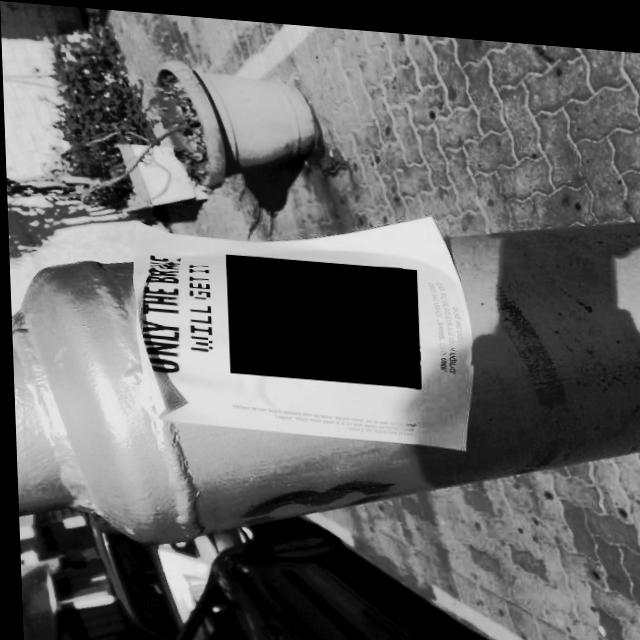qr_code: (225, 250, 418, 380)
